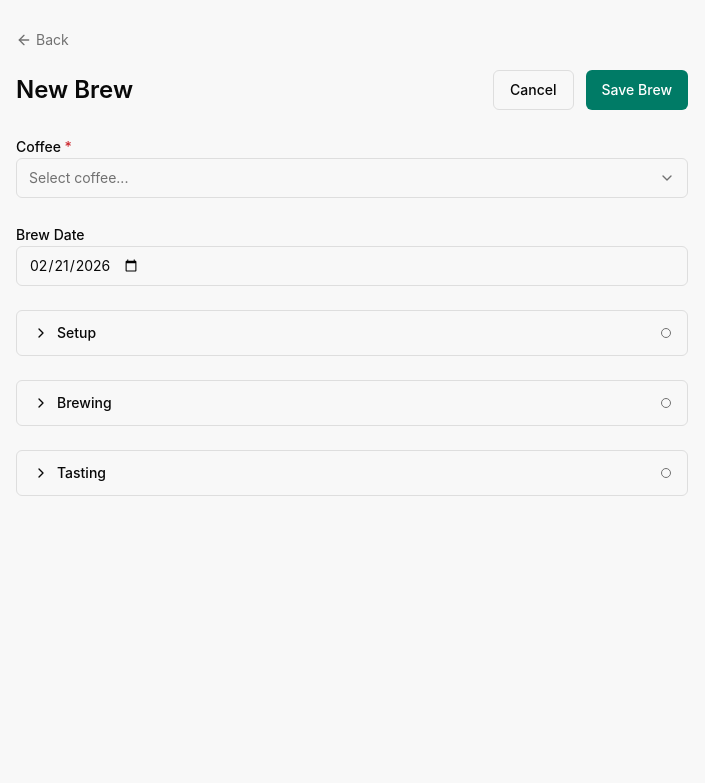
BrewFormPage › expands Tasting section with sensory fields
Check: the heading "New Brew" is shown, box [16, 74, 133, 106]
Click the button "Tasting": click(82, 472) [17, 451, 687, 495]
(page scrolled)
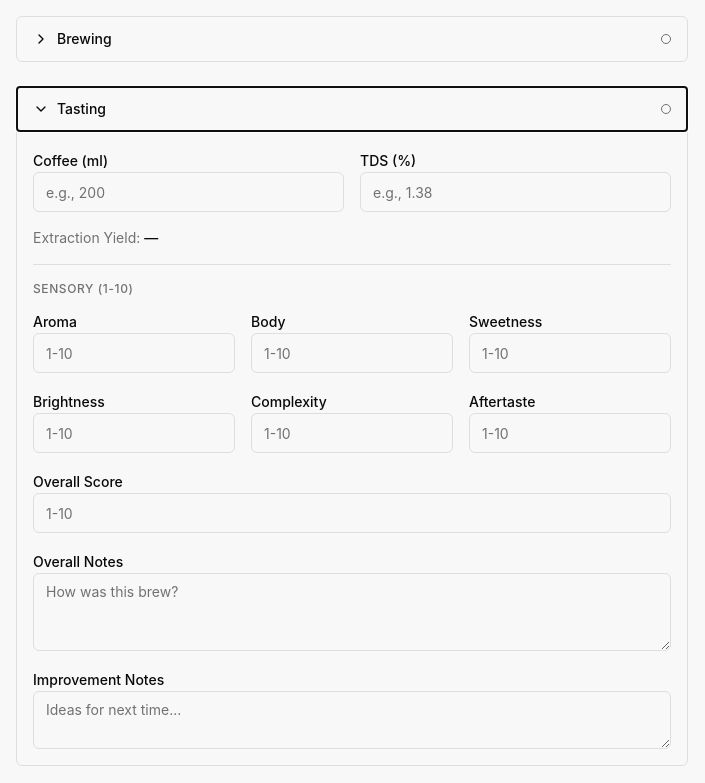
Check: the number field labelled "Coffee (ml)" is shown, box [33, 172, 344, 212]
Check: the number field labelled "TDS (%)" is shown, box [360, 172, 671, 212]
Check: the text "Extraction Yield: —" is shown, box [33, 229, 158, 246]
